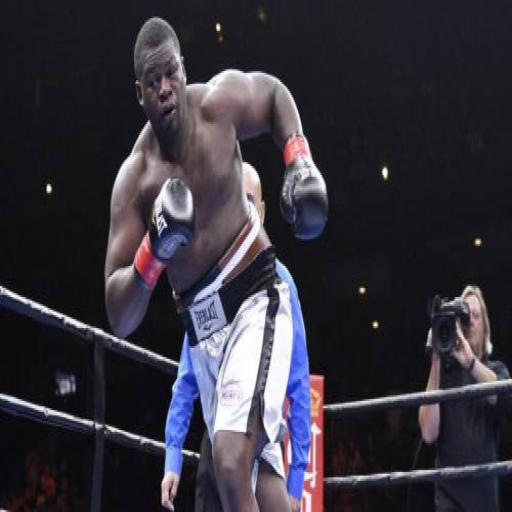boxing: (103, 15, 329, 510)
